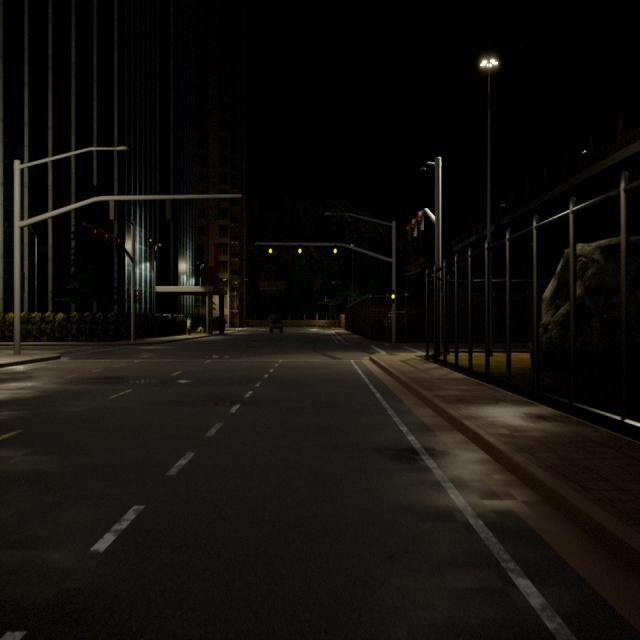Pedestrian: (186, 314, 193, 336)
Vehicle: (268, 317, 284, 333)
traffic_light: (418, 211, 424, 230), (412, 218, 417, 237), (406, 224, 412, 239), (133, 290, 139, 304), (268, 244, 273, 257), (333, 244, 338, 256), (391, 290, 395, 303), (298, 245, 302, 258), (93, 228, 97, 234), (105, 233, 108, 239), (117, 238, 120, 242)
